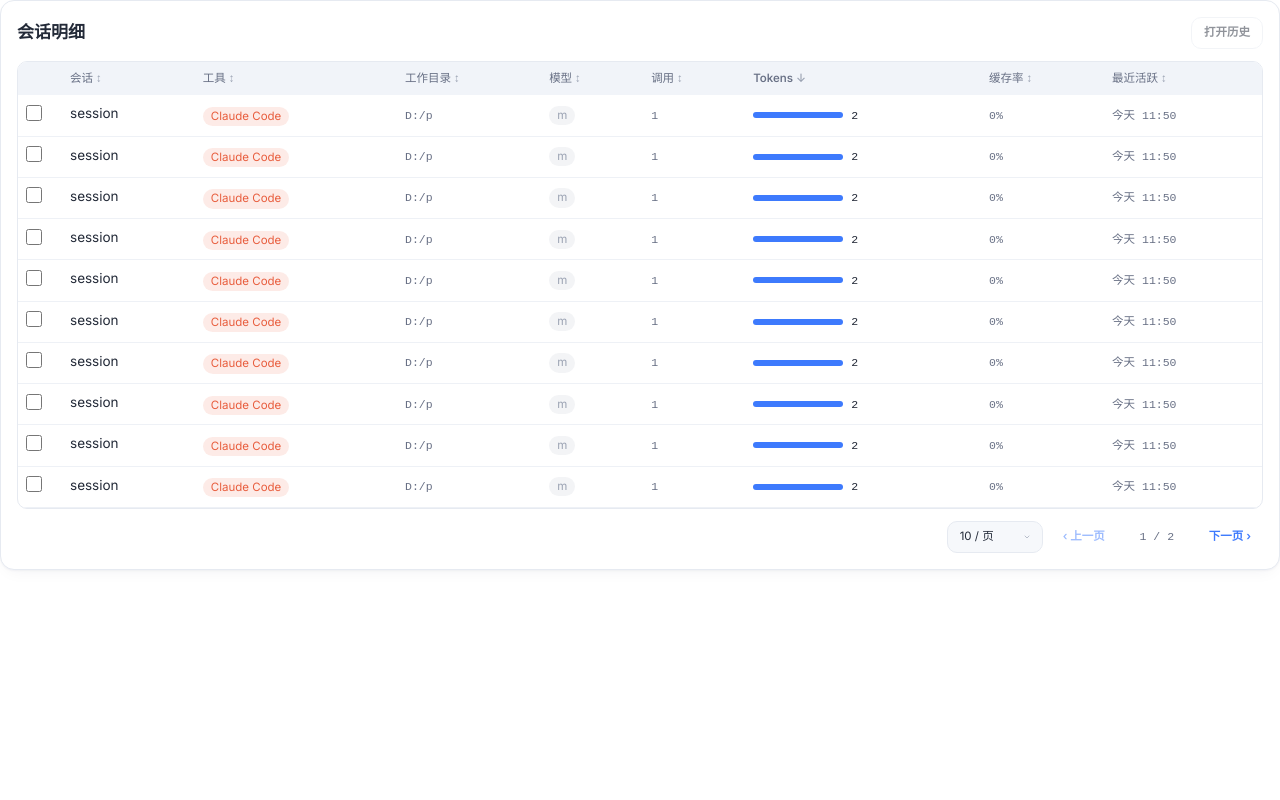
Scenario: SessionTable session-history open › clears checked state when paging to another page
This screenshot has width=1280, height=800.
Click the 1st checkbox named "选择 session".
click(34, 113)  # box [26,105,42,121]
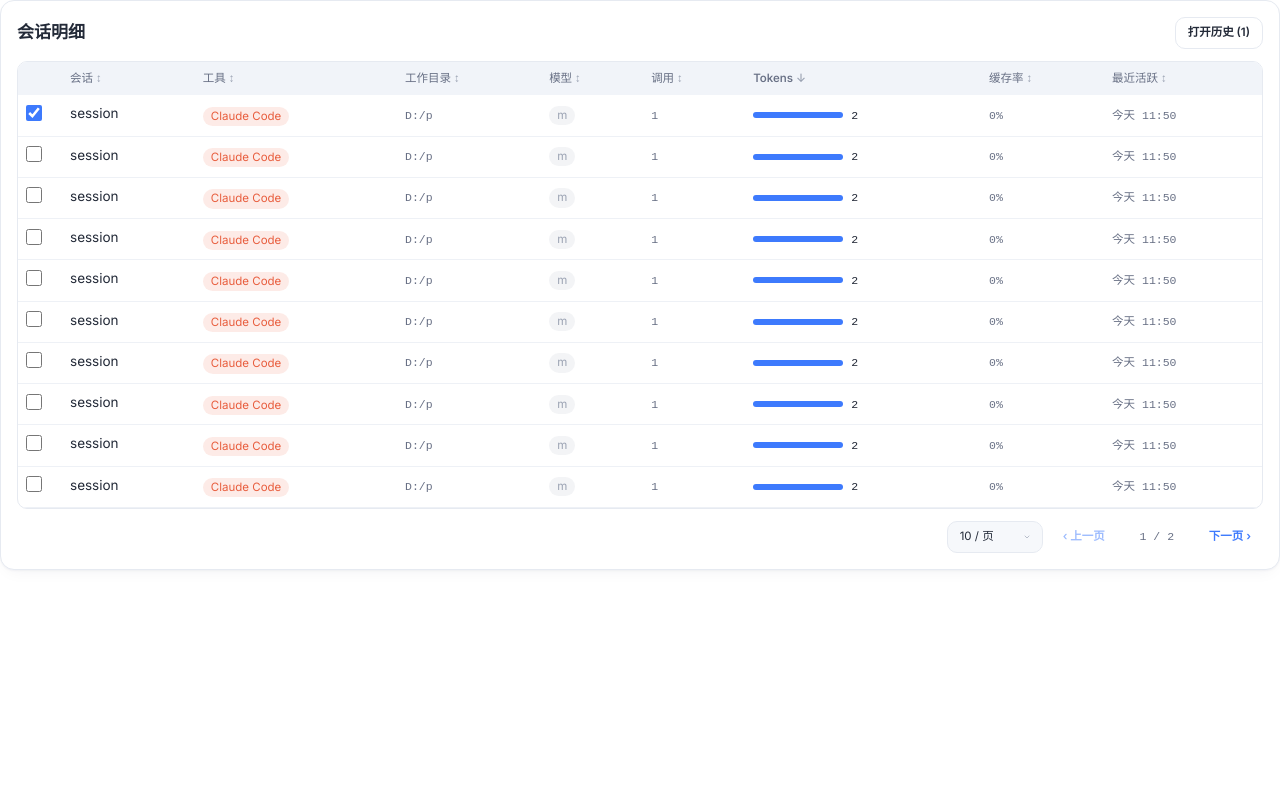
Expected: the button "打开历史 (1)" is enabled, [1175,17,1263,49]
Click the button "下一页 ›".
click(1230, 537)  # box [1197,521,1263,553]
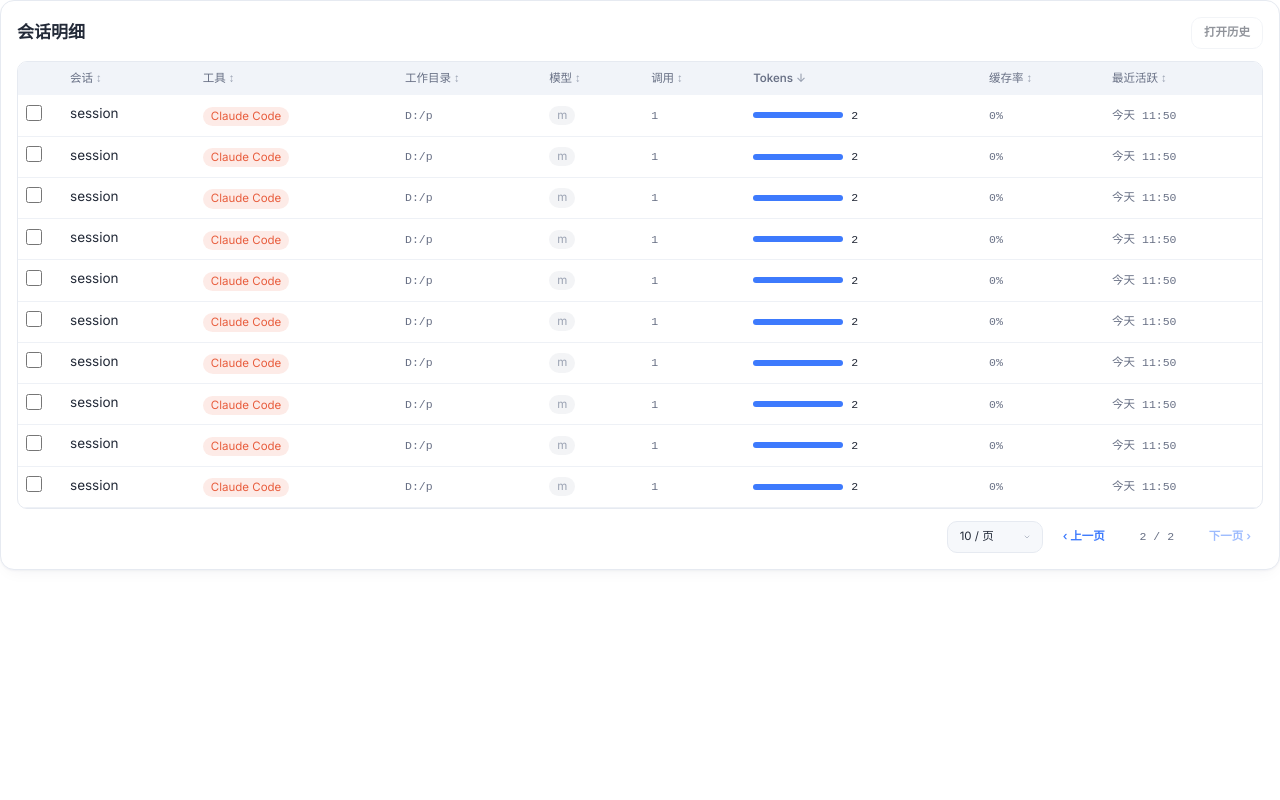
Expected: the button "打开历史" is disabled, [1191,17,1263,49]
